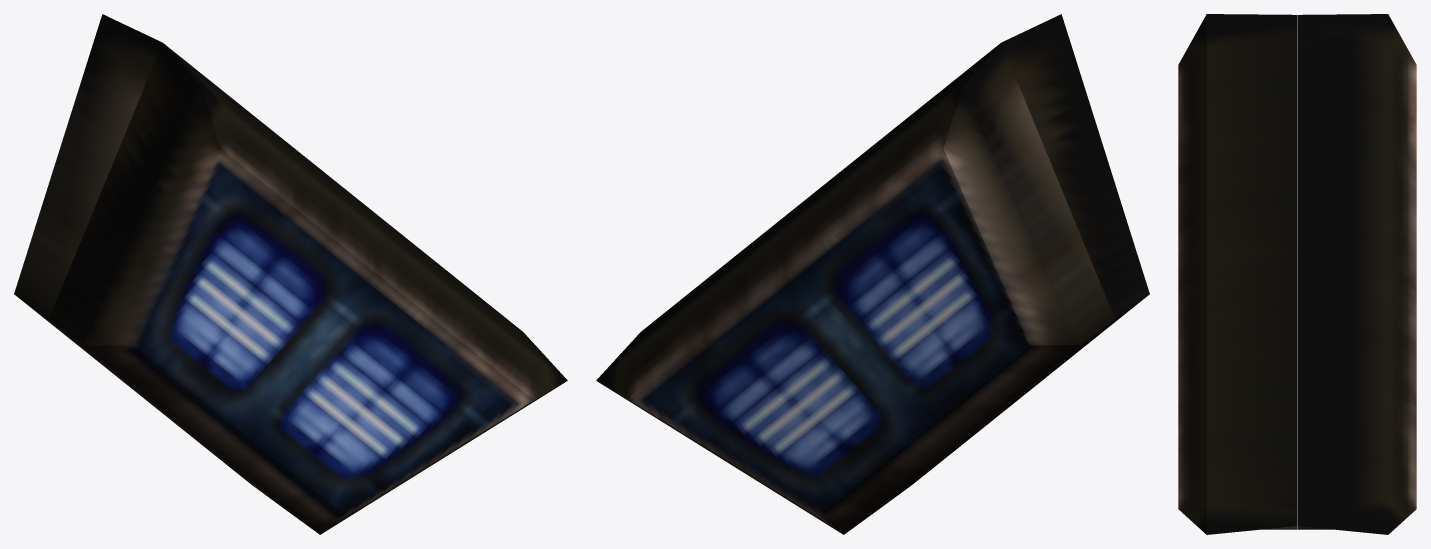
File: datan_common__2_fe31b1e9.obj
3 renders of one model, left to right at view 1: azimuth 30°, elevation 25°; view 2: azimuth 150°, elevation 25°; view 3: azimuth 270°, elevation 25°, orthographic. The views are drawn at different scales.
Visible parts, largest first — view 1: datan_common__2_fe31b1e9; view 2: datan_common__2_fe31b1e9; view 3: datan_common__2_fe31b1e9.
Boxes of the visible parts, x1,y1,x2,y2 form: datan_common__2_fe31b1e9: (14,14,567,534); datan_common__2_fe31b1e9: (596,14,1149,534); datan_common__2_fe31b1e9: (1178,14,1416,534).
Bounding box in the file's own units: 8.02 × 8.03 × 3.77.
1 material, 1 textured.
